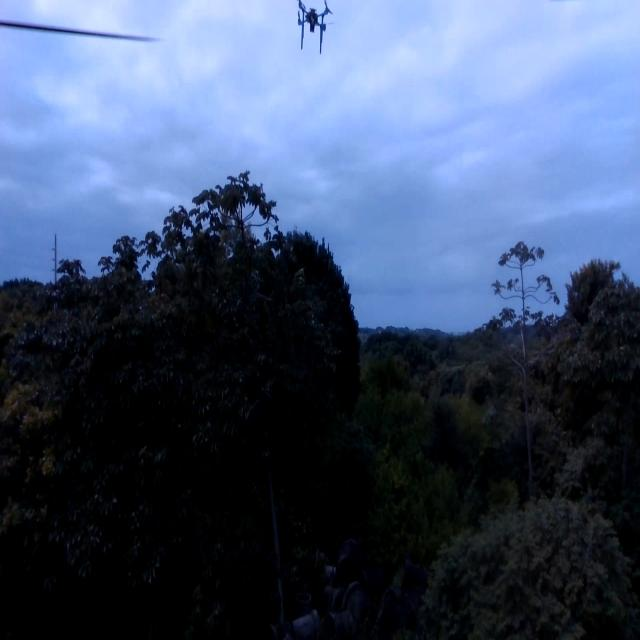-uav-: (287, 0, 337, 61)
